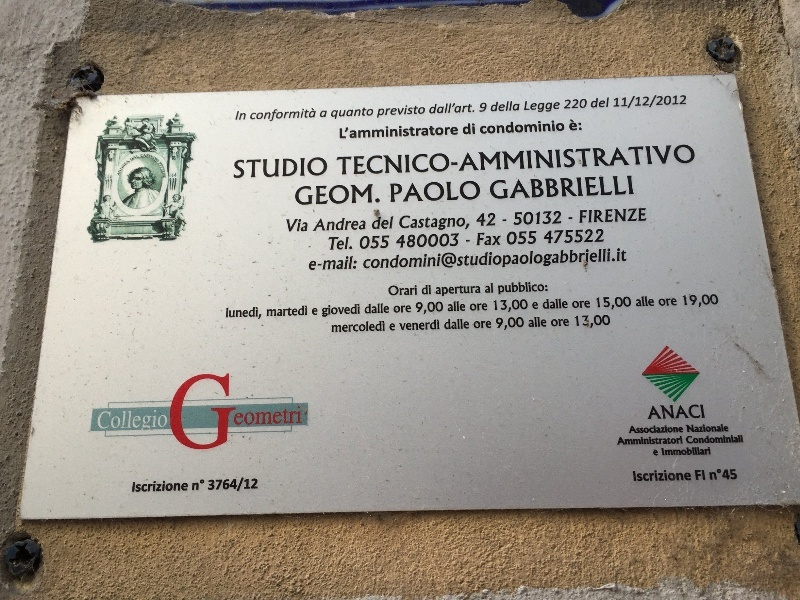text: (289, 371, 305, 452), (177, 371, 192, 452), (193, 371, 208, 452), (209, 371, 224, 452), (225, 371, 240, 452), (241, 371, 256, 452), (257, 371, 272, 452), (273, 371, 288, 452), (337, 144, 352, 177), (353, 144, 368, 177), (369, 144, 384, 177), (385, 144, 400, 177), (401, 144, 416, 177), (417, 144, 432, 177), (433, 144, 448, 177), (449, 144, 464, 177), (465, 144, 480, 177), (481, 144, 496, 177), (497, 144, 512, 177), (513, 144, 528, 177), (529, 144, 544, 177), (545, 144, 560, 177), (561, 144, 576, 177), (577, 144, 592, 177), (593, 144, 608, 177), (609, 144, 624, 177), (625, 144, 640, 177), (641, 144, 656, 177), (657, 144, 672, 177), (673, 144, 688, 177), (497, 175, 512, 200), (513, 175, 528, 200), (529, 175, 544, 200), (545, 175, 560, 200), (561, 175, 576, 200), (577, 175, 592, 200), (593, 175, 608, 200), (609, 175, 624, 200), (465, 181, 481, 203), (305, 184, 320, 207), (321, 184, 336, 207), (337, 184, 352, 207), (353, 184, 368, 207), (113, 410, 128, 433), (129, 410, 144, 433), (145, 410, 160, 433), (241, 158, 256, 180), (257, 158, 272, 180), (273, 158, 288, 180), (289, 158, 304, 180), (305, 158, 320, 180), (401, 181, 416, 203), (417, 181, 432, 203), (433, 181, 448, 203), (449, 181, 464, 203), (465, 248, 480, 268), (481, 248, 496, 268), (497, 248, 512, 268), (513, 248, 528, 268), (529, 248, 544, 268), (545, 248, 560, 268), (561, 248, 576, 268), (577, 248, 592, 268), (593, 248, 608, 268), (689, 144, 698, 177), (369, 184, 381, 207), (100, 410, 112, 433), (173, 371, 176, 452), (401, 216, 416, 232), (417, 216, 432, 232), (433, 216, 448, 232), (449, 216, 464, 232), (369, 253, 384, 269), (385, 253, 400, 269), (401, 253, 416, 269), (417, 253, 432, 269), (353, 124, 368, 139), (369, 124, 384, 139), (385, 124, 400, 139), (401, 124, 416, 139), (417, 124, 432, 139), (433, 124, 448, 139), (625, 175, 634, 200), (529, 211, 544, 226), (545, 211, 560, 226), (513, 231, 528, 246), (545, 229, 560, 244), (561, 229, 576, 244), (577, 229, 592, 244), (401, 234, 416, 249), (417, 234, 432, 249), (433, 234, 448, 249), (369, 235, 384, 250), (689, 293, 704, 308), (577, 314, 592, 329), (593, 314, 608, 329), (657, 404, 672, 419), (673, 404, 688, 419), (689, 404, 704, 419), (337, 237, 353, 251), (513, 299, 529, 313), (390, 181, 400, 203), (257, 107, 272, 121), (273, 107, 288, 121), (289, 107, 304, 121), (385, 104, 400, 118), (401, 104, 416, 118), (481, 120, 496, 134), (497, 120, 512, 134), (513, 120, 528, 134), (529, 120, 544, 134), (545, 120, 560, 134), (321, 218, 336, 232), (337, 218, 352, 232), (481, 213, 496, 227), (514, 211, 528, 226), (593, 209, 608, 223), (609, 209, 624, 223), (625, 209, 640, 223), (321, 257, 336, 271), (337, 257, 352, 271), (513, 282, 528, 296), (529, 282, 544, 296), (705, 293, 719, 308), (609, 296, 624, 310), (497, 299, 512, 313), (497, 317, 512, 331), (417, 301, 432, 315), (465, 284, 481, 297), (353, 218, 367, 232), (498, 282, 512, 296), (337, 107, 352, 120), (353, 107, 368, 120), (289, 219, 304, 232), (481, 233, 496, 246), (449, 284, 464, 297), (241, 307, 256, 320), (337, 304, 352, 317), (545, 101, 561, 113), (369, 321, 385, 333), (296, 184, 304, 207), (433, 103, 448, 115), (529, 101, 544, 113), (340, 124, 352, 139), (273, 305, 288, 317), (289, 305, 304, 317), (449, 318, 464, 330), (401, 319, 416, 331), (417, 319, 432, 331), (337, 321, 352, 333), (353, 321, 368, 333), (145, 481, 160, 493), (161, 481, 176, 493), (193, 479, 208, 491), (209, 479, 224, 491), (641, 470, 656, 482), (657, 470, 672, 482), (673, 470, 688, 482), (401, 285, 417, 296), (627, 96, 640, 109), (227, 307, 240, 320), (323, 304, 336, 317), (305, 107, 317, 121), (580, 209, 592, 223), (596, 296, 608, 310), (513, 317, 525, 331), (497, 101, 512, 112), (593, 98, 608, 109), (657, 95, 672, 106), (593, 229, 604, 244), (449, 234, 460, 249), (369, 303, 384, 314), (449, 301, 464, 312), (545, 298, 560, 309), (529, 317, 544, 328), (161, 410, 168, 433), (436, 284, 448, 297), (225, 479, 238, 491), (673, 95, 687, 106), (641, 296, 655, 307), (449, 124, 459, 139), (490, 175, 496, 200), (689, 434, 704, 444), (705, 434, 720, 444), (721, 434, 736, 444), (625, 435, 640, 445), (641, 435, 656, 445), (657, 435, 672, 445), (723, 469, 736, 480), (374, 216, 384, 230), (310, 257, 320, 271), (609, 248, 616, 268), (433, 301, 443, 315), (481, 103, 496, 112), (641, 425, 656, 434), (657, 425, 672, 434), (689, 424, 704, 433), (705, 424, 720, 433), (673, 447, 688, 456), (689, 447, 704, 456), (465, 123, 476, 135), (321, 158, 327, 180), (133, 481, 144, 493), (177, 481, 188, 493), (433, 253, 441, 269), (417, 104, 426, 118), (385, 216, 394, 230), (389, 285, 400, 296), (245, 478, 256, 489), (709, 469, 720, 480), (321, 110, 336, 118), (529, 231, 537, 246), (449, 253, 457, 268), (458, 248, 464, 268), (658, 298, 672, 306), (565, 99, 576, 109), (235, 158, 240, 180), (485, 283, 496, 293), (361, 235, 368, 250), (353, 304, 361, 317), (465, 104, 475, 114), (577, 99, 587, 109), (422, 285, 432, 295), (673, 435, 683, 445), (673, 425, 684, 434), (661, 447, 672, 456), (569, 118, 576, 132), (329, 237, 336, 251), (617, 248, 624, 262), (625, 296, 632, 310), (577, 301, 591, 308), (649, 95, 656, 108), (615, 97, 624, 107), (641, 96, 650, 106), (401, 305, 411, 314), (695, 470, 704, 480), (561, 298, 569, 309), (481, 321, 492, 329), (577, 118, 583, 132), (641, 209, 647, 223), (433, 319, 440, 331), (633, 470, 640, 482), (721, 424, 730, 433), (456, 104, 464, 114), (465, 216, 470, 232), (470, 303, 480, 311), (390, 323, 400, 331), (513, 101, 520, 112), (533, 302, 544, 309), (385, 235, 390, 250), (443, 253, 448, 268), (683, 293, 688, 308), (449, 103, 455, 115), (312, 307, 320, 316), (551, 319, 560, 327), (632, 425, 640, 434), (353, 257, 358, 271), (737, 434, 744, 444), (369, 107, 374, 120), (257, 307, 262, 320), (561, 319, 569, 327), (705, 447, 712, 456), (508, 231, 512, 246), (267, 305, 272, 317), (465, 318, 470, 330), (652, 404, 656, 419), (252, 107, 256, 121), (380, 104, 384, 118), (561, 120, 565, 134), (545, 282, 549, 296), (481, 303, 488, 311), (473, 321, 480, 329), (241, 478, 245, 492), (385, 303, 390, 314), (241, 111, 247, 120), (394, 305, 400, 314), (332, 107, 336, 120), (305, 219, 309, 232), (497, 233, 501, 246), (365, 253, 368, 269), (332, 321, 336, 333), (492, 101, 496, 112), (636, 296, 640, 307), (493, 299, 496, 313), (636, 96, 640, 106), (620, 435, 624, 445), (477, 233, 480, 246), (525, 101, 528, 113), (305, 305, 308, 317), (445, 318, 448, 330), (689, 470, 692, 482), (365, 303, 368, 314), (673, 298, 677, 306), (625, 97, 628, 107), (502, 219, 512, 222), (398, 234, 400, 249), (609, 314, 611, 329), (685, 434, 688, 444), (478, 213, 480, 227), (466, 240, 480, 242), (625, 248, 627, 262), (572, 301, 576, 308), (286, 219, 288, 232), (398, 319, 400, 331), (545, 317, 547, 328), (238, 111, 240, 120), (686, 424, 688, 433), (653, 450, 656, 456), (561, 211, 562, 226), (575, 314, 576, 329), (705, 404, 706, 419), (569, 217, 576, 219), (239, 478, 240, 492), (431, 103, 432, 115), (463, 123, 464, 135), (657, 450, 659, 456), (609, 98, 610, 109), (465, 301, 466, 312), (543, 298, 544, 309), (257, 478, 258, 489), (721, 469, 722, 480), (737, 469, 738, 480), (705, 470, 706, 480)
